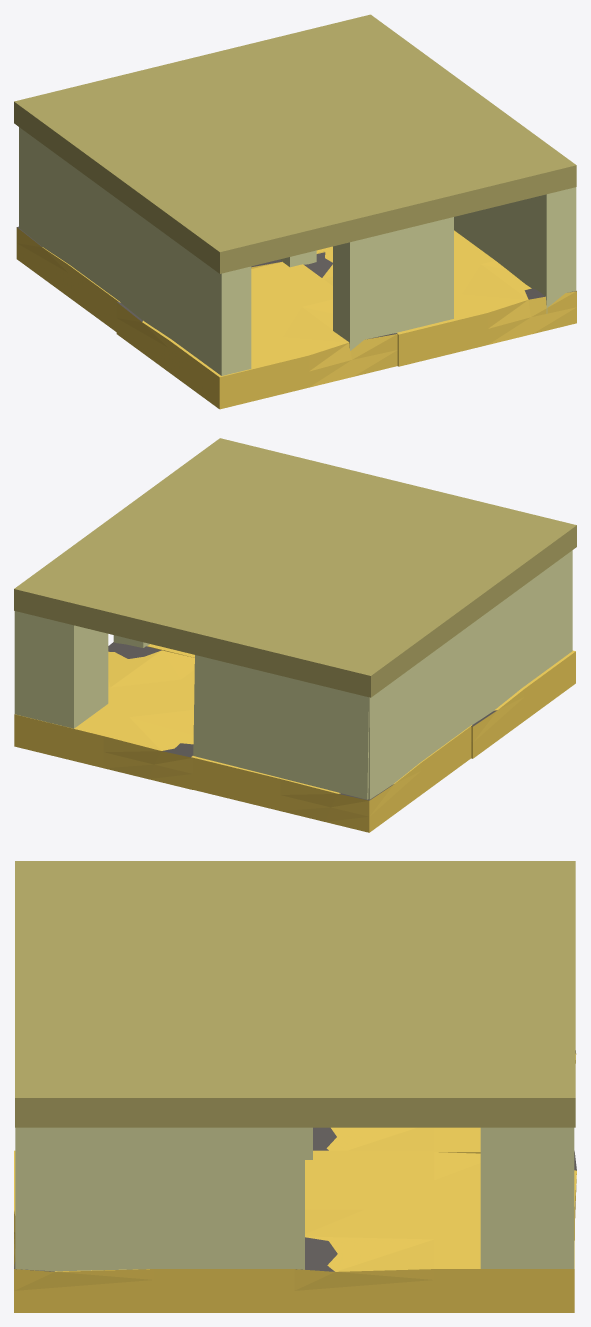
File: BACKROOMS_POLY_GAME.glb
The picture shows the model from 3 angles, top to bottom: view 1: azimuth 30°, elevation 25°; view 2: azimuth 150°, elevation 25°; view 3: azimuth 270°, elevation 25°; orthographic projection. The views are drawn at different scales.
Parts seen in each view (by area): view 1: Cube.011, Cube.003, Cube.009, Cube.008, Cube.002, Cube.005, Cube.007, Cube.001; view 2: Cube.011, Cube.006, Cube, Cube.009, Cube.005, Cube.001, Cube.010, Cube.003; view 3: Cube.011, Cube.007, Cube, Cube.010, Cube.002, Cube.001.
Boxes of the visible parts, left/top/right/bottom form: Cube.011: left=14, top=14, right=576, bottom=273; Cube.003: left=116, top=262, right=397, bottom=409; Cube.009: left=117, top=199, right=251, bottom=375; Cube.008: left=333, top=217, right=453, bottom=350; Cube.002: left=304, top=230, right=576, bottom=366; Cube.005: left=19, top=127, right=116, bottom=298; Cube.007: left=454, top=187, right=576, bottom=313; Cube.001: left=16, top=226, right=282, bottom=331; Cube.011: left=14, top=438, right=576, bottom=697; Cube.006: left=193, top=655, right=369, bottom=799; Cube: left=14, top=642, right=194, bottom=789; Cube.009: left=467, top=550, right=572, bottom=727; Cube.005: left=368, top=627, right=467, bottom=799; Cube.001: left=191, top=725, right=472, bottom=832; Cube.010: left=14, top=611, right=108, bottom=728; Cube.003: left=471, top=650, right=575, bottom=758; Cube.011: left=15, top=861, right=575, bottom=1127; Cube.007: left=15, top=1127, right=304, bottom=1271; Cube: left=294, top=1150, right=576, bottom=1312; Cube.010: left=480, top=1127, right=574, bottom=1268; Cube.002: left=14, top=1150, right=294, bottom=1312; Cube.001: left=313, top=1050, right=576, bottom=1153.
Size of the model in its own units: 12.02 by 5.07 by 12.05.
